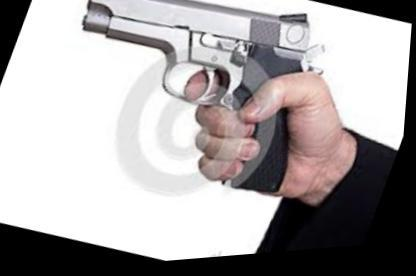pistol: (31, 0, 349, 217)
